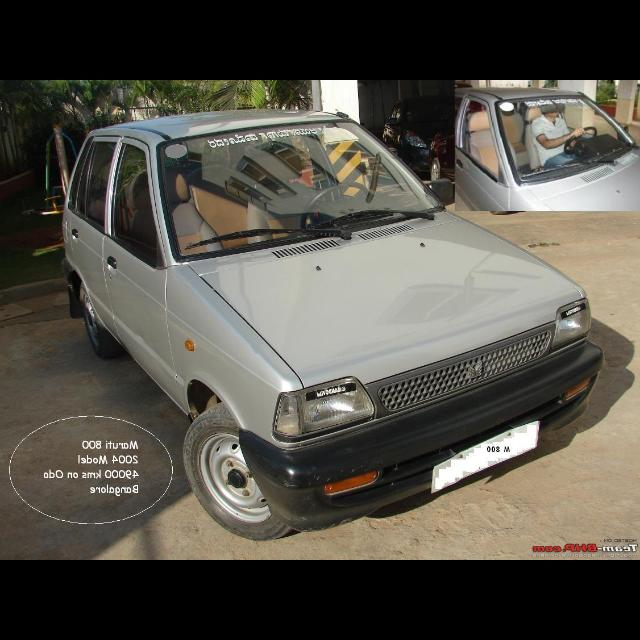number-plate: (421, 418, 548, 493)
vehicles: (59, 108, 604, 540), (445, 80, 637, 220)
